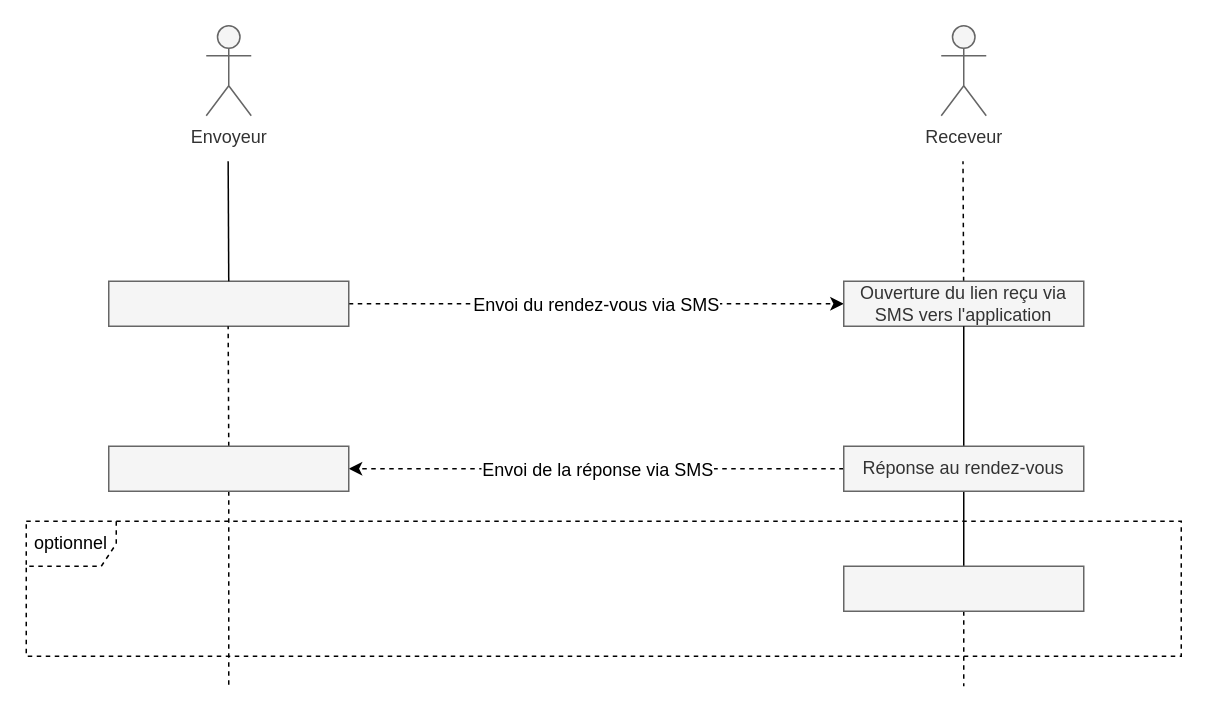
The diagram is 1208 pixels wide and 716 high, and some of its shapes have lost their labels. The shapes that lost their labels are listed below. From the top down, each one's centre as x and y in pixels, then its label:
At point 228,303: "Création d'un rendez-vous géolocalisé".
At point 228,468: "Réception du SMS de validation".
At point 963,588: "Ouverture de la carte pour localiser le rendez-vous".
